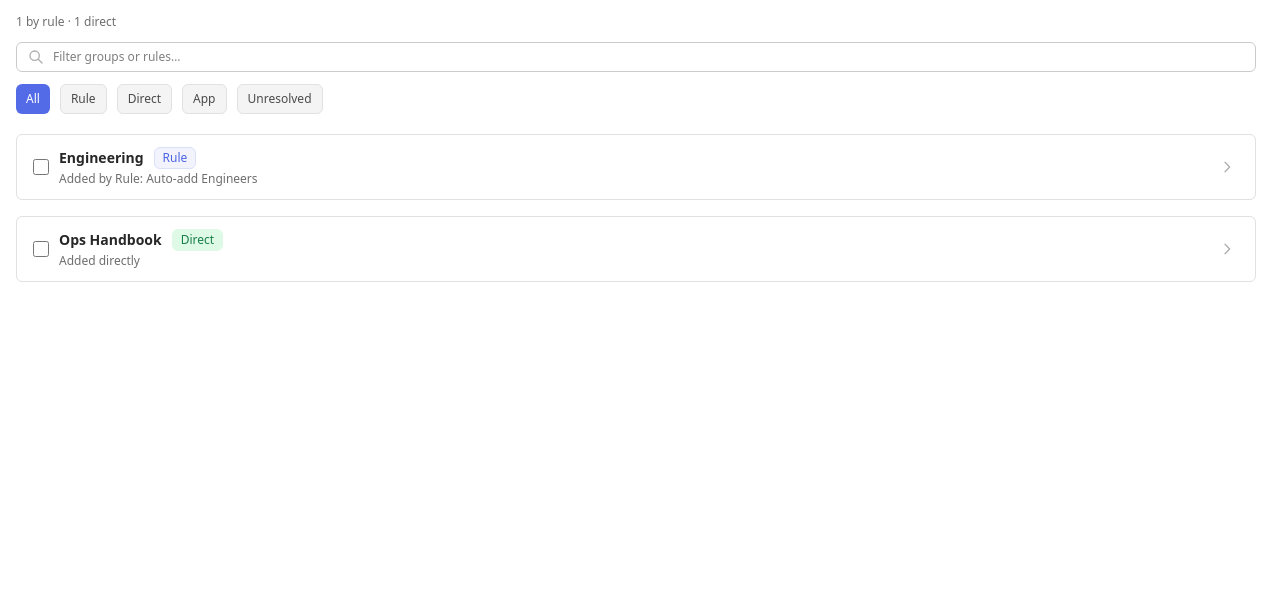
Scenario: GroupMembershipsList — isMemberOf* resolves against the loaded memberships › still declines a clause no group list could answer
Click the button named "Show how Engineering was granted" at (1227, 167), box [1215,155,1239,179]
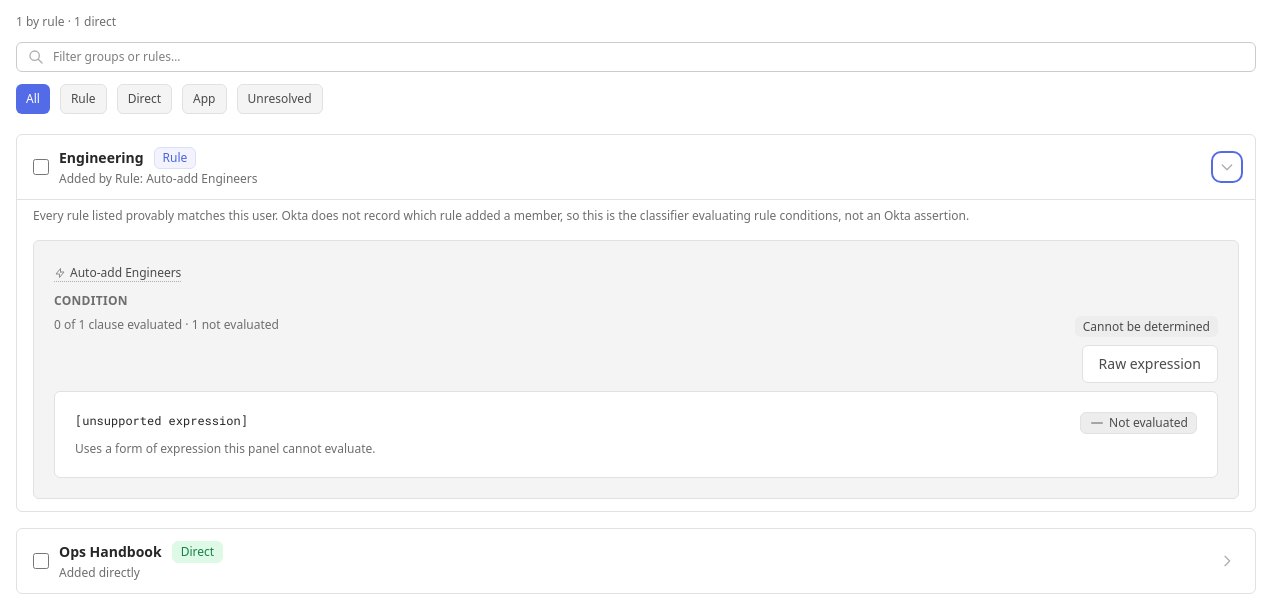
Expected: the text "Not evaluated" is shown, [1080,412,1197,434]
Expected: the text "Cannot be determined" is shown, [1075,316,1218,337]
